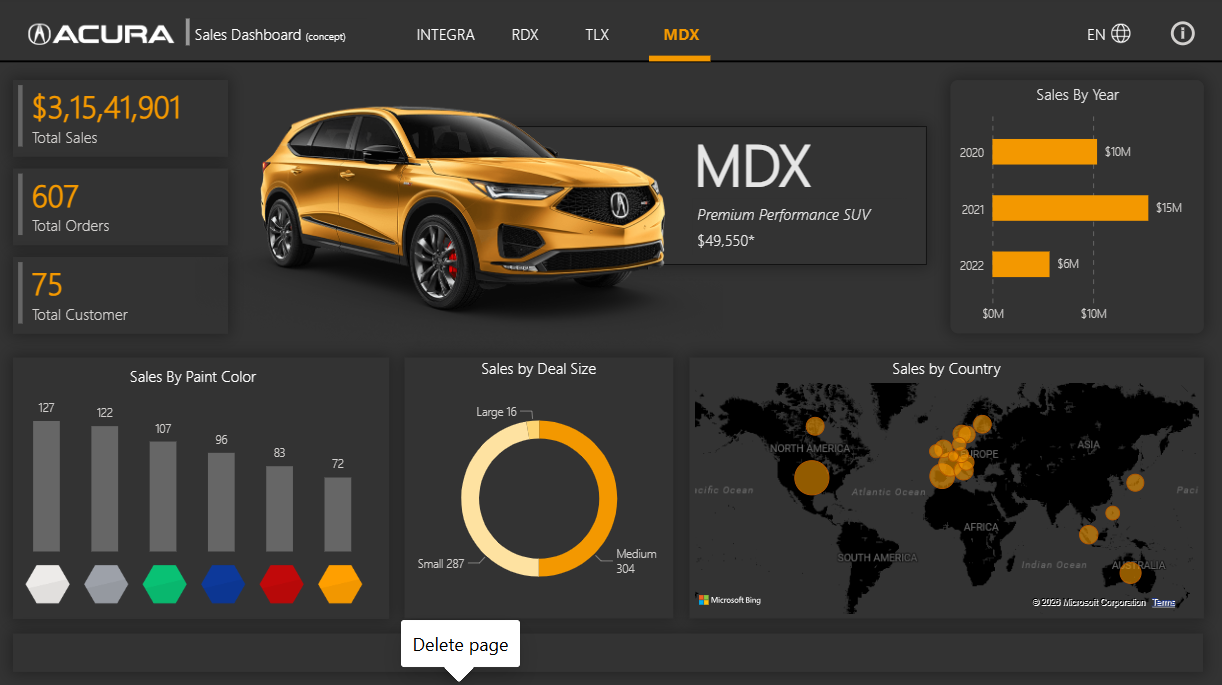

The page's visual inventory and layout, read from the dashboard file:
{"tool":"powerbi","page":{"name":"MDX","canvas":[1280,720],"ordinal":3},"visuals":[{"type":"textbox","box":[427.1,22.7,80,32],"z":0,"group":"g1"},{"type":"textbox","box":[524.9,22.7,51.7,32],"z":0,"group":"g2"},{"type":"textbox","box":[599.5,22.7,51.7,32],"z":0,"group":"g3"},{"type":"textbox","box":[672,22.7,80,48],"z":0,"group":"g4"},{"type":"shape","box":[496,135.8,472,144],"z":0},{"type":"image","box":[16,22.7,184,32],"z":1000},{"type":"actionButton","box":[424,22.7,80,32],"z":1000,"group":"g1"},{"type":"actionButton","box":[522.7,22.7,56,32],"z":1000,"group":"g2"},{"type":"actionButton","box":[597.3,22.7,56,32],"z":1000,"group":"g3"},{"type":"actionButton","box":[672,22.7,72,32],"z":1000,"group":"g4"},{"type":"map","title":"Sales by Country","fields":{"Category":["Area.COUNTRY"],"Size":["Sales.Total Sales"]},"box":[720,376,536,272],"z":2000},{"type":"multiRowCard","title":"Key Metrics","fields":{"Values":["Sales.Total Sales"]},"box":[16,88,224,80],"z":3000},{"type":"multiRowCard","title":"Key Metrics","fields":{"Values":["Sales.Total Orders"]},"box":[16,180,224,80],"z":4000},{"type":"multiRowCard","title":"Key Metrics","fields":{"Values":["Sales.Total Customer"]},"box":[16,272,224,80],"z":5000},{"type":"image","box":[200,88,560,296],"z":6000},{"type":"multiRowCard","fields":{"Values":["Vehcile Model.Model Name"]},"box":[720,127.8,272,96],"z":7000},{"type":"multiRowCard","fields":{"Values":["Vehcile Model.Description"]},"box":[723,211.8,224,32],"z":8000},{"type":"multiRowCard","fields":{"Values":["Vehcile Model.Starting Price"]},"box":[723,237.8,224,32],"z":9000},{"type":"donutChart","title":"Sales by Deal Size","fields":{"Category":["Sales.DEALSIZE"],"Y":["CountNonNull(Sales.DEALSIZE)"]},"box":[424,376,280,272],"z":10000},{"type":"shape","box":[16,376,392,272],"z":11000},{"type":"image","box":[328,584,56,56],"z":12000},{"type":"image","box":[267.2,584,56,56],"z":13000},{"type":"image","box":[84.8,584,56,56],"z":14000},{"type":"image","box":[24,584,56,56],"z":15000},{"type":"image","box":[206.4,584,56,56],"z":16000},{"type":"image","box":[145.6,584,56,56],"z":17000},{"type":"clusteredColumnChart","title":"Sales By Paint  Color","fields":{"Category":["Sales.Ordered Color"],"Y":["Sales.Total Orders"]},"box":[32,384,344,200],"z":18000},{"type":"barChart","title":"Sales By Year","fields":{"Category":["Calender.Date.Variation.Date Hierarchy.Year"],"Y":["Sales.Total Sales"]},"box":[992,88,264,264],"z":19000},{"type":"group","id":"g1","title":"Group 1","box":[424,22.7,83.1,32],"z":20000},{"type":"group","id":"g2","title":"Group 1","box":[522.7,22.7,56,32],"z":21000},{"type":"group","id":"g3","title":"Group 1","box":[597.3,22.7,56,32],"z":22000},{"type":"group","id":"g4","title":"Group 1","box":[672,22.7,80,48],"z":23000},{"type":"shape","box":[0,64,1280,8],"z":24000},{"type":"textbox","box":[200,24,184,32],"z":25000},{"type":"shape","box":[165,24,64,28],"z":26000},{"type":"shape","box":[679,53,64,24],"z":27000},{"type":"shape","box":[16,664,1240,40],"z":28000},{"type":"image","box":[1152,21,36,36],"z":29000},{"type":"textbox","box":[1130.3,23,39,37],"z":30000},{"type":"actionButton","box":[1217,22,34,34],"z":36000}]}

Visuals, with their boxes in screenshot pixels (x1, y1, x2, y2), scaled from the page's 1280x720 canvas onto the 1222x685 screenshot:
textbox: l=408, t=22, r=484, b=52
textbox: l=501, t=22, r=550, b=52
textbox: l=572, t=22, r=622, b=52
textbox: l=642, t=22, r=718, b=67
shape: l=474, t=129, r=924, b=266
image: l=15, t=22, r=191, b=52
actionButton: l=405, t=22, r=481, b=52
actionButton: l=499, t=22, r=552, b=52
actionButton: l=570, t=22, r=624, b=52
actionButton: l=642, t=22, r=710, b=52
"Sales by Country" map: l=687, t=358, r=1199, b=616
"Key Metrics" multiRowCard: l=15, t=84, r=229, b=160
"Key Metrics" multiRowCard: l=15, t=171, r=229, b=247
"Key Metrics" multiRowCard: l=15, t=259, r=229, b=335
image: l=191, t=84, r=726, b=365
multiRowCard - Vehcile Model.Model Name: l=687, t=122, r=947, b=213
multiRowCard - Vehcile Model.Description: l=690, t=202, r=904, b=232
multiRowCard - Vehcile Model.Starting Price: l=690, t=226, r=904, b=257
"Sales by Deal Size" donutChart: l=405, t=358, r=672, b=616
shape: l=15, t=358, r=390, b=616
image: l=313, t=556, r=367, b=609
image: l=255, t=556, r=309, b=609
image: l=81, t=556, r=134, b=609
image: l=23, t=556, r=76, b=609
image: l=197, t=556, r=251, b=609
image: l=139, t=556, r=192, b=609
"Sales By Paint  Color" clusteredColumnChart: l=31, t=365, r=359, b=556
"Sales By Year" barChart: l=947, t=84, r=1199, b=335
"Group 1" group: l=405, t=22, r=484, b=52
"Group 1" group: l=499, t=22, r=552, b=52
"Group 1" group: l=570, t=22, r=624, b=52
"Group 1" group: l=642, t=22, r=718, b=67
shape: l=0, t=61, r=1221, b=68
textbox: l=191, t=23, r=367, b=53
shape: l=158, t=23, r=219, b=49
shape: l=648, t=50, r=709, b=73
shape: l=15, t=632, r=1199, b=670
image: l=1100, t=20, r=1134, b=54
textbox: l=1079, t=22, r=1116, b=57
actionButton: l=1162, t=21, r=1194, b=53
